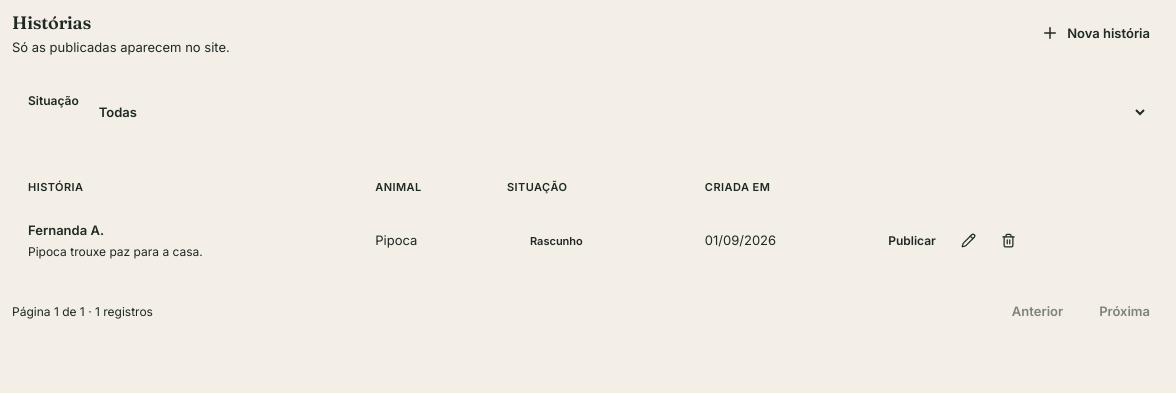
Test: publishes a draft from the list
The width and height of the screenshot is (1176, 393).
Click the button "Publicar": coordinates (912, 241) [878,224,946,258]
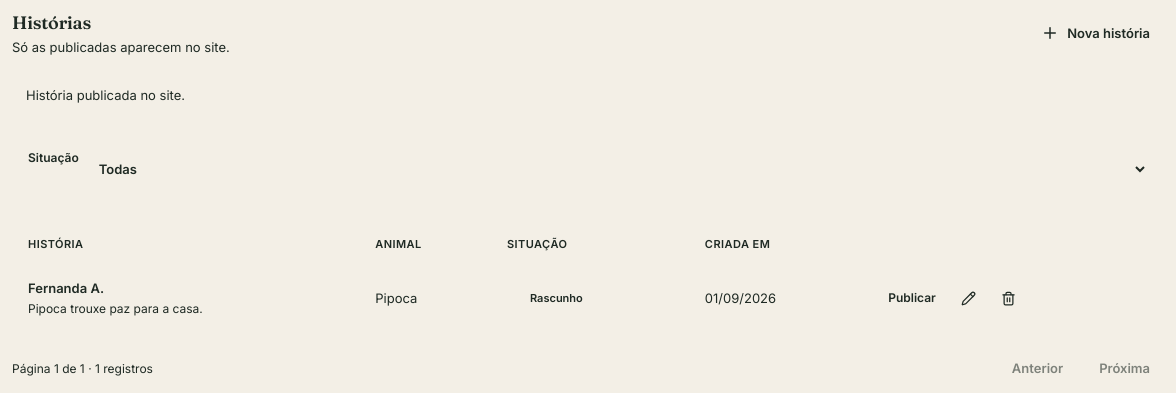
Expected: the text "História publicada no site." is shown, [26,86,185,102]
